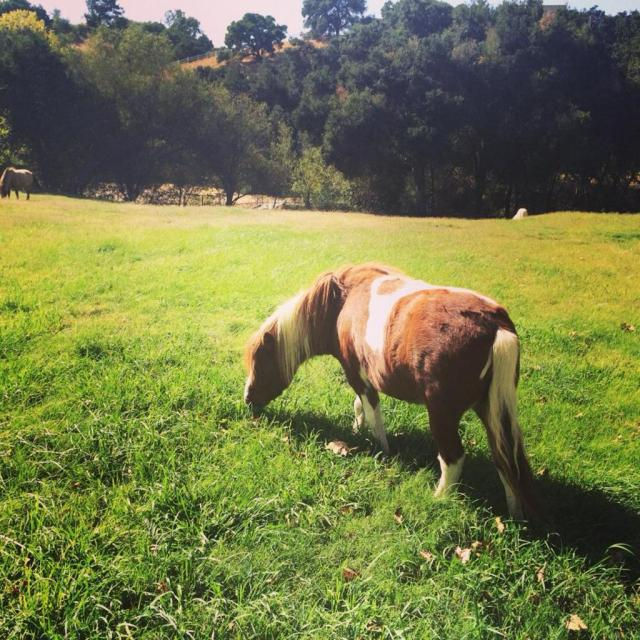Horse: (248, 261, 528, 514)
